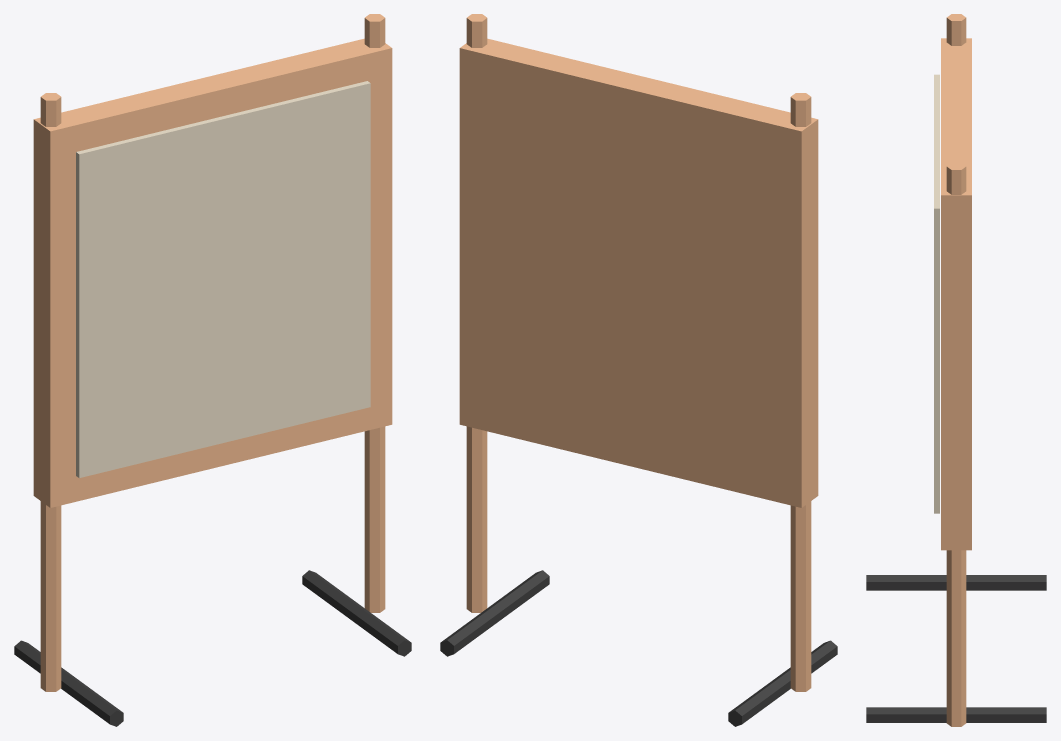
The picture shows the model from 3 angles, left to right: view 1: azimuth 30°, elevation 25°; view 2: azimuth 150°, elevation 25°; view 3: azimuth 270°, elevation 25°; orthographic projection. The views are drawn at different scales.
Parts seen in each view (by area): view 1: Art surface, Frame, Support, Support.001, Foot.001, Foot; view 2: Frame, Support, Support.001, Foot.001, Foot; view 3: Frame, Support.001, Art surface, Foot, Foot.001, Support.
Boxes of the visible parts, bbox=[...] form: Art surface: bbox=[76, 81, 370, 478]; Frame: bbox=[33, 38, 392, 507]; Support: bbox=[40, 93, 61, 691]; Support.001: bbox=[364, 14, 385, 612]; Foot.001: bbox=[302, 570, 411, 656]; Foot: bbox=[14, 640, 123, 726]; Frame: bbox=[459, 38, 818, 507]; Support: bbox=[790, 93, 811, 691]; Support.001: bbox=[466, 14, 487, 612]; Foot.001: bbox=[440, 570, 549, 656]; Foot: bbox=[728, 640, 837, 726]; Frame: bbox=[941, 38, 971, 550]; Support.001: bbox=[946, 163, 966, 726]; Art surface: bbox=[934, 74, 939, 513]; Foot: bbox=[866, 575, 1046, 590]; Foot.001: bbox=[866, 707, 1046, 722]; Support: bbox=[946, 14, 966, 45].
Bounding box in the file's own units: 95 × 159 × 46.
